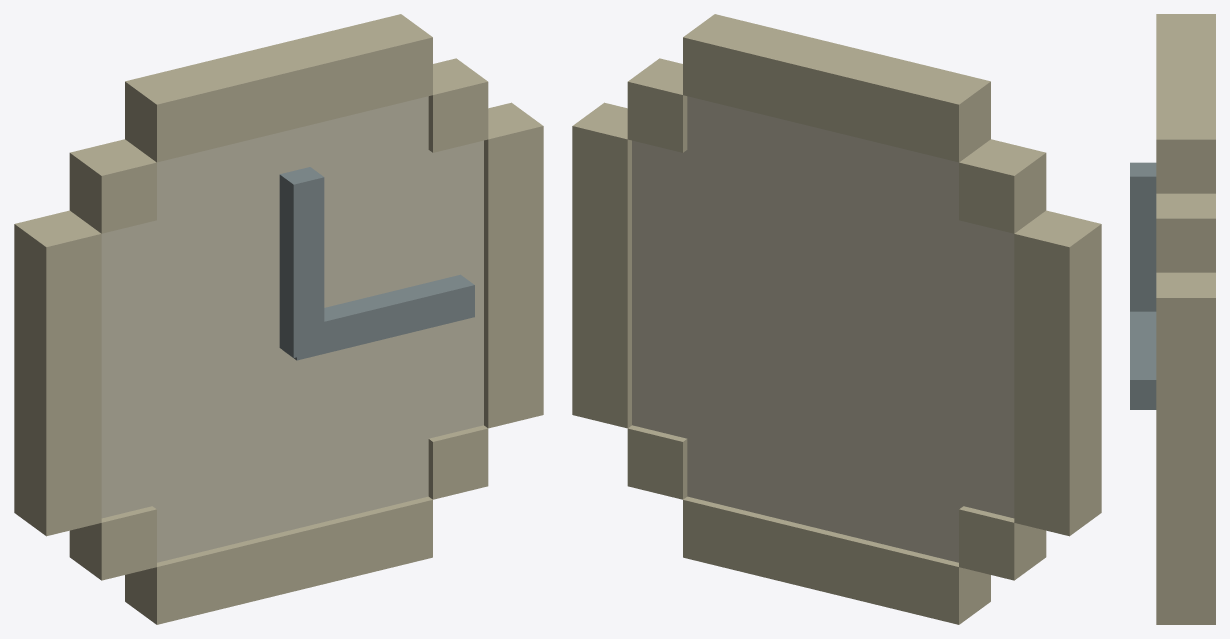
File: item_clock.glb
The picture shows the model from 3 angles, left to right: view 1: azimuth 30°, elevation 25°; view 2: azimuth 150°, elevation 25°; view 3: azimuth 270°, elevation 25°; orthographic projection. The views are drawn at different scales.
Parts seen in each view (by area): view 1: item_clock; view 2: item_clock; view 3: item_clock.
Part boxes in pixels (x1=…): item_clock: x1=14, y1=14, x2=543, y2=624; item_clock: x1=572, y1=14, x2=1101, y2=624; item_clock: x1=1130, y1=14, x2=1215, y2=624.
Size of the model in its own units: 1.62 by 1.62 by 0.26.
